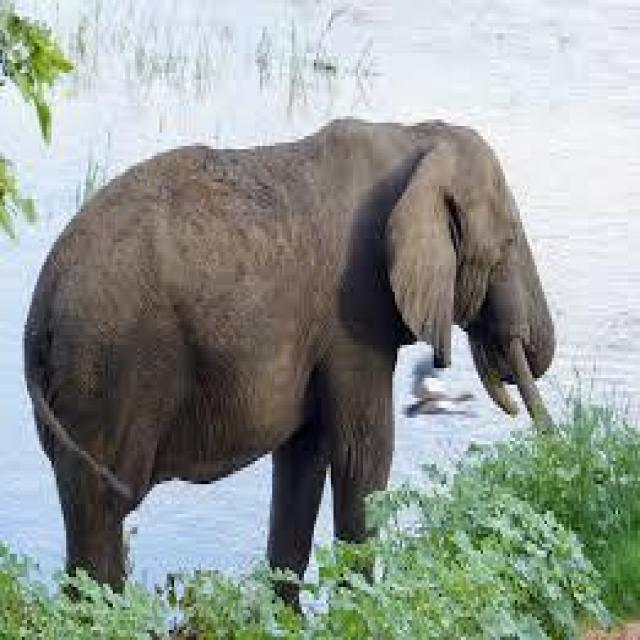Elephant: (19, 116, 544, 587)
